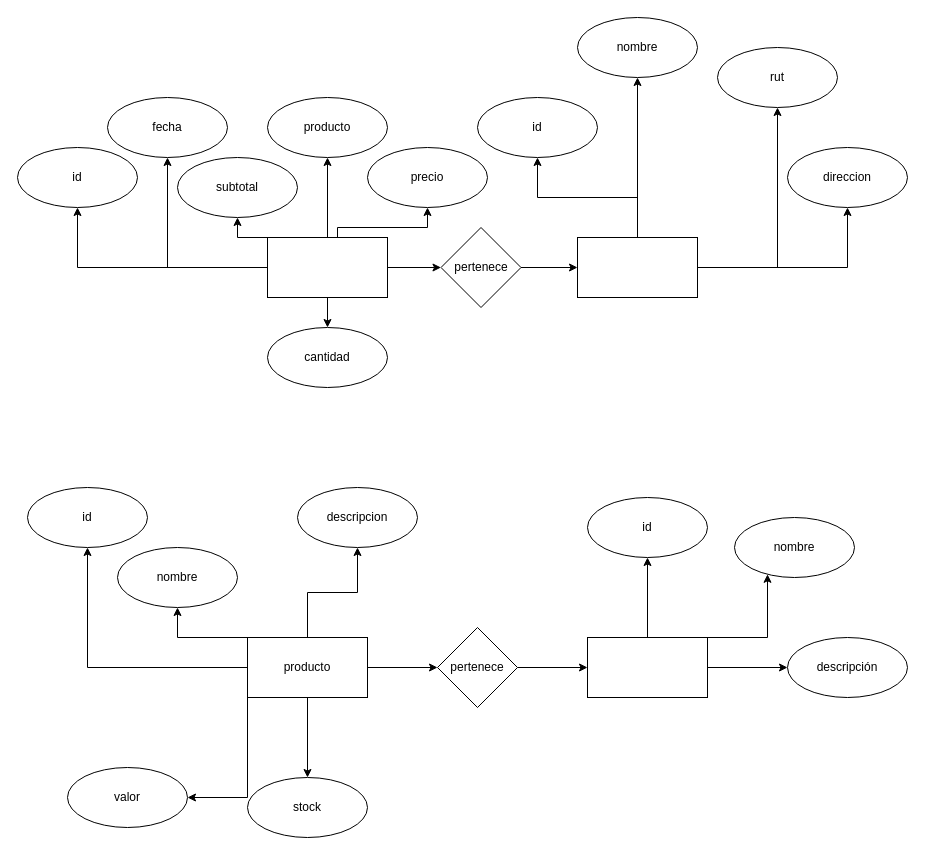
The diagram is 925 pixels wide and 855 high, and some of its shapes have lost their labels. The centre of each missing label's shape, as x and y in pixels:
categoria: the point at 647,667
cliente: the point at 637,267
factura: the point at 327,267
